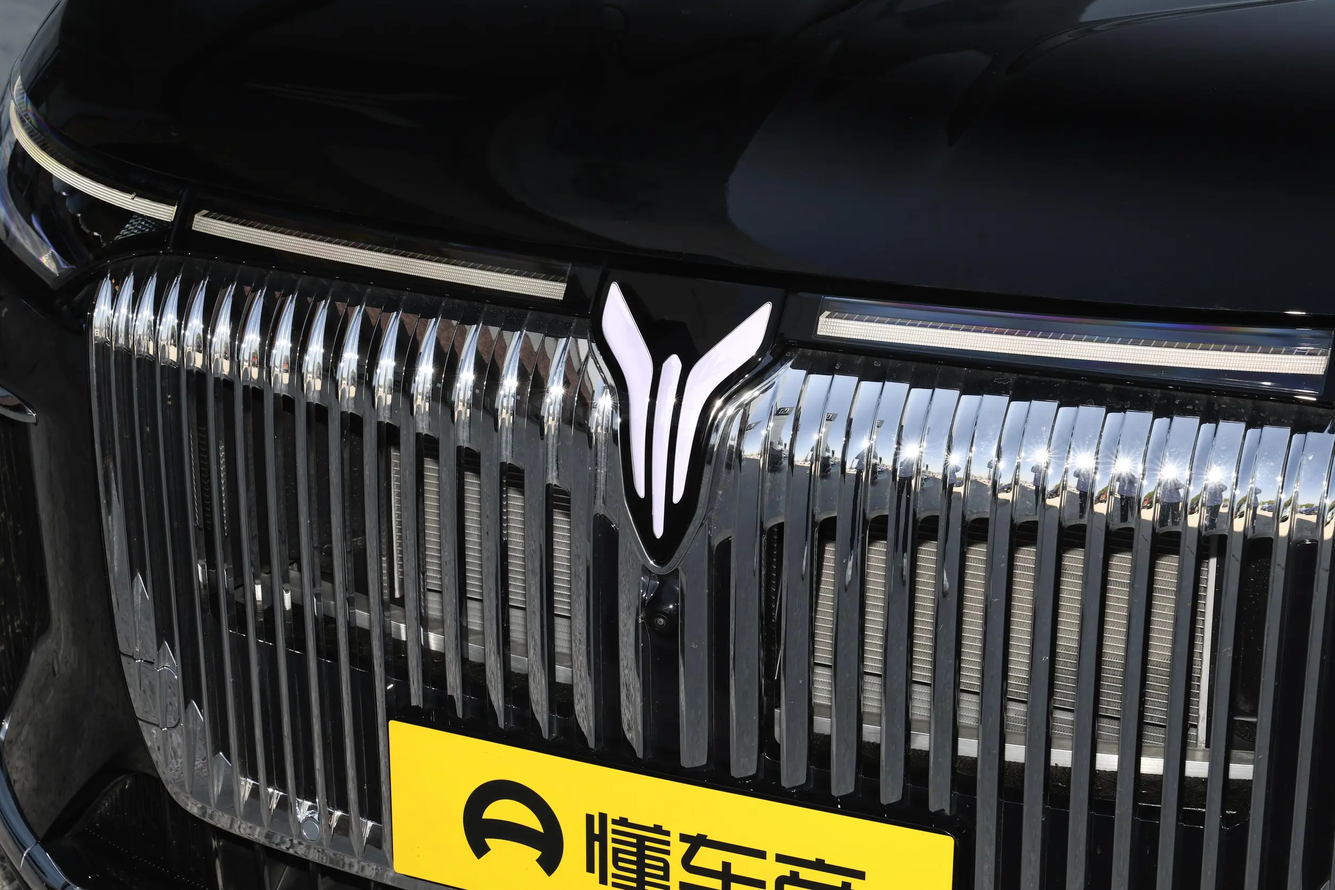VOYAH: (602, 282, 771, 539)
